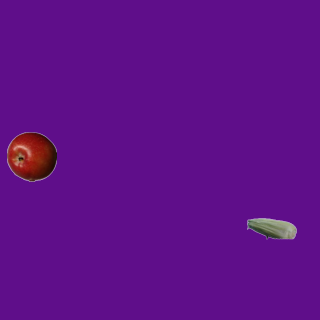Apple Braeburn: (6, 131, 56, 181)
Corn Husk: (246, 203, 296, 253)
